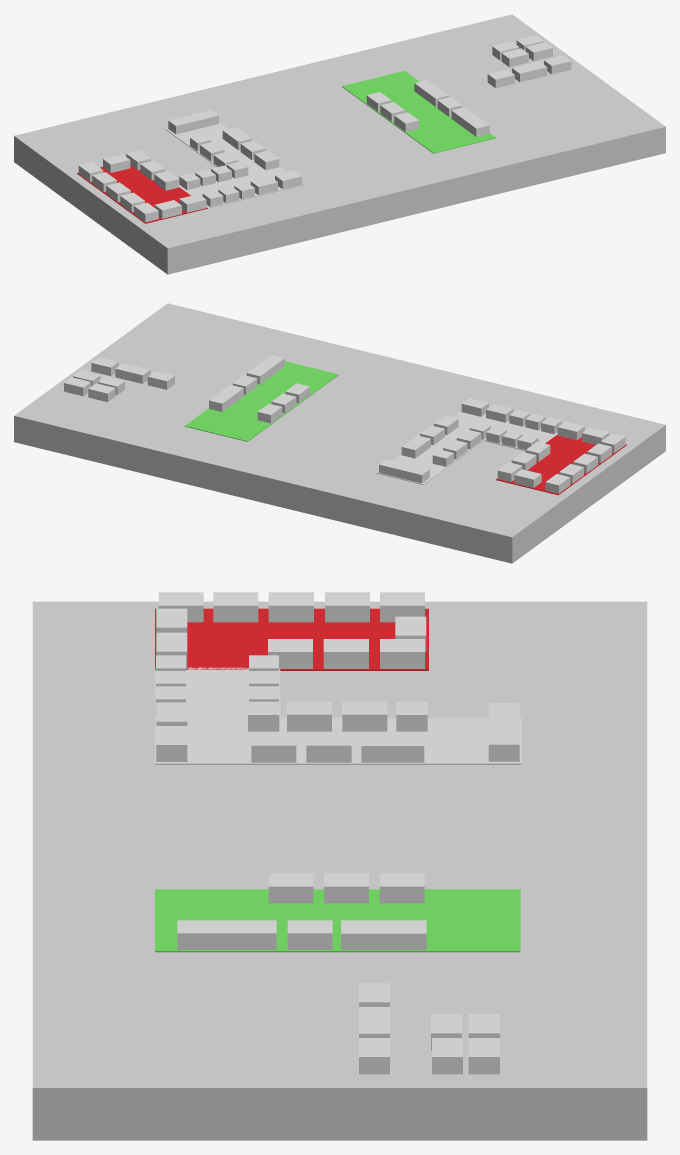
The model's file is plan.glb.
The picture shows the model from 3 angles, top to bottom: view 1: azimuth 30°, elevation 25°; view 2: azimuth 150°, elevation 25°; view 3: azimuth 270°, elevation 25°; orthographic projection. The views are drawn at different scales.
Parts seen in each view (by area): view 1: Cube, Cube.041, Cube.043, Cube.014, Cube.006, Cube.004, Cube.008, Cube.015, Cube.013, Cube.007, Cube.030, Cube.009 (+1 smaller); view 2: Cube, Cube.041, Cube.043, Cube.014, Cube.006, Cube.004, Cube.008, Cube.015, Cube.012, Cube.007, Cube.030, Cube.009 (+1 smaller); view 3: Cube, Cube.043, Cube.041, Cube.006, Cube.004, Cube.015, Cube.014, Cube.016, Cube.001, Cube.003, Cube.017, Cube.026 (+20 smaller).
Part boxes in pixels (x1,y1,x2,y2): Cube: (14, 14, 665, 274); Cube.041: (342, 71, 495, 153); Cube.043: (77, 122, 304, 223); Cube.014: (168, 110, 218, 134); Cube.006: (451, 107, 489, 136); Cube.004: (414, 80, 449, 106); Cube.008: (512, 61, 547, 82); Cube.015: (222, 127, 251, 150); Cube.013: (501, 48, 528, 67); Cube.007: (487, 69, 514, 88); Cube.030: (103, 154, 130, 172); Cube.009: (544, 55, 571, 74); Cube: (14, 303, 665, 563); Cube.041: (184, 361, 339, 441); Cube.043: (376, 411, 626, 495); Cube.014: (379, 459, 429, 483); Cube.006: (246, 355, 284, 384); Cube.004: (209, 385, 243, 411); Cube.008: (115, 363, 150, 383); Cube.015: (401, 435, 430, 458); Cube.012: (88, 383, 115, 402); Cube.007: (147, 371, 174, 389); Cube.030: (514, 469, 541, 487); Cube.009: (91, 357, 118, 376); Cube: (32, 601, 647, 1140); Cube.043: (155, 608, 521, 764); Cube.041: (155, 889, 520, 952); Cube.006: (177, 920, 276, 949); Cube.004: (341, 920, 426, 950); Cube.015: (361, 732, 424, 762); Cube.014: (488, 703, 519, 761); Cube.016: (306, 732, 351, 762); Cube.001: (268, 873, 313, 903); Cube.003: (379, 873, 424, 903); Cube.017: (251, 732, 296, 762); Cube.026: (213, 592, 258, 622).
Bounding box in the file's own units: 30.07 × 2.04 × 16.07.
